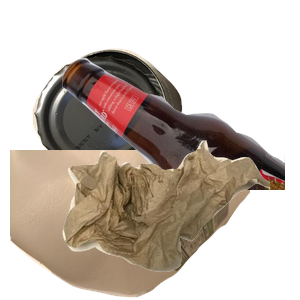glass: (60, 56, 300, 236)
metal: (30, 46, 205, 215)
plastic: (10, 150, 250, 300)
trash: (60, 138, 300, 300)
